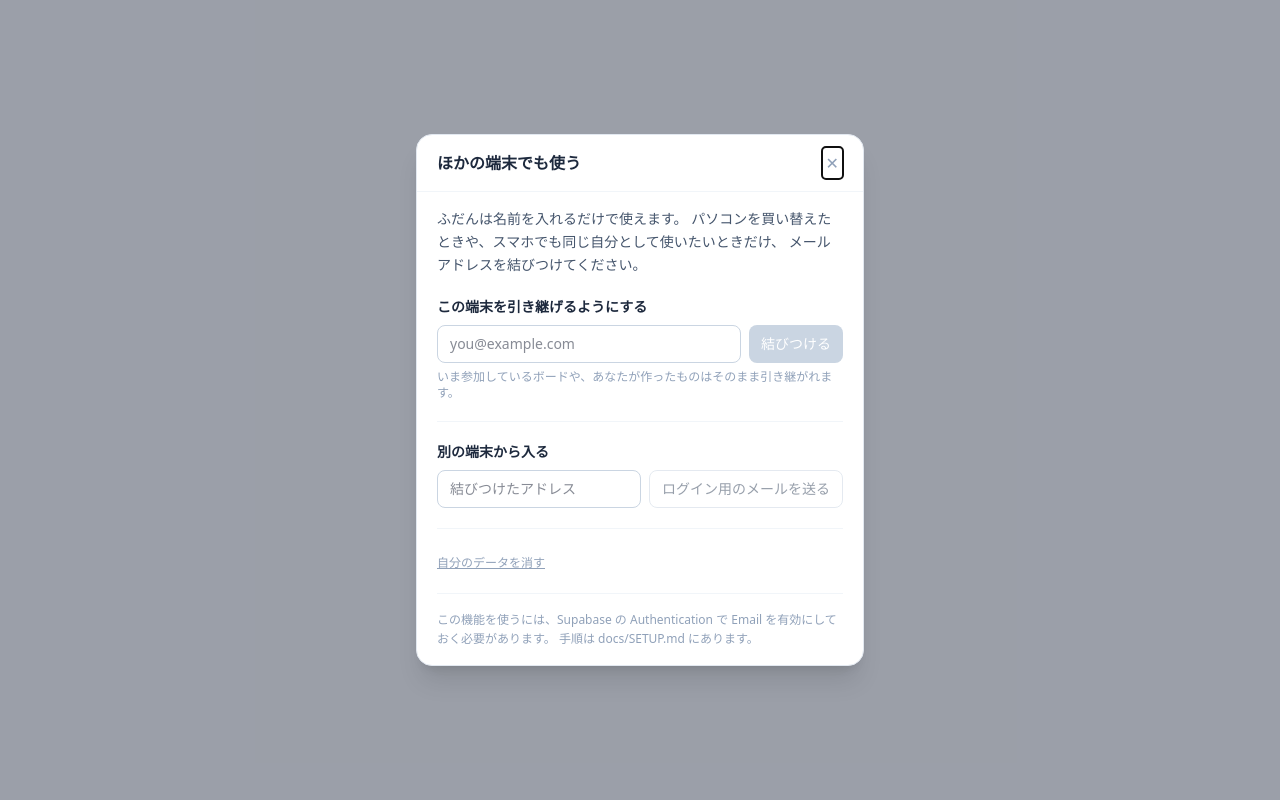
AccountModal — 自分のデータを消す › 一覧を読めなかったら、消すボタンは押せないまま
Click the button "自分のデータを消す" at (491, 563), box left=437, top=555, right=545, bottom=571
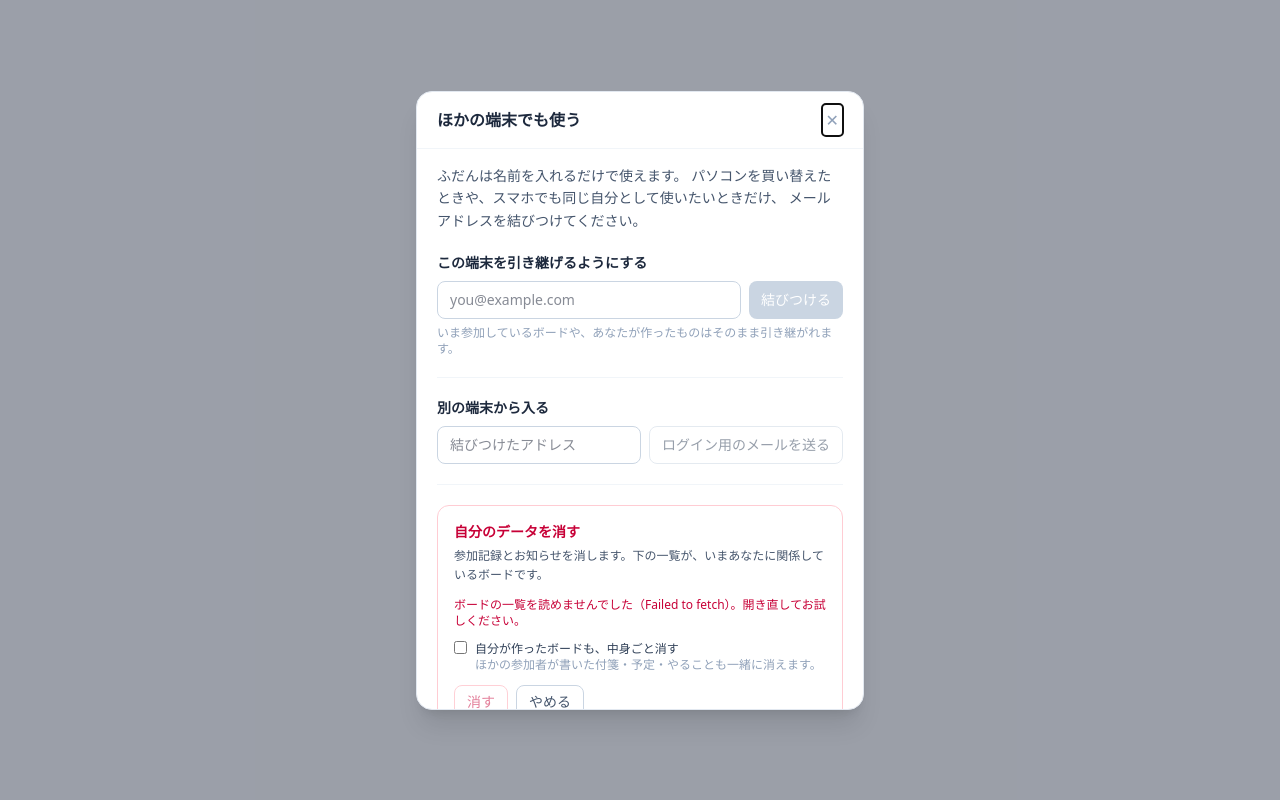
Expected: the list item "ボードの一覧を読めませんでした（Failed to fetch）。開き直してお試しください。" is shown, left=454, top=597, right=826, bottom=629
Expected: the button "消す" is disabled, left=454, top=685, right=508, bottom=708
